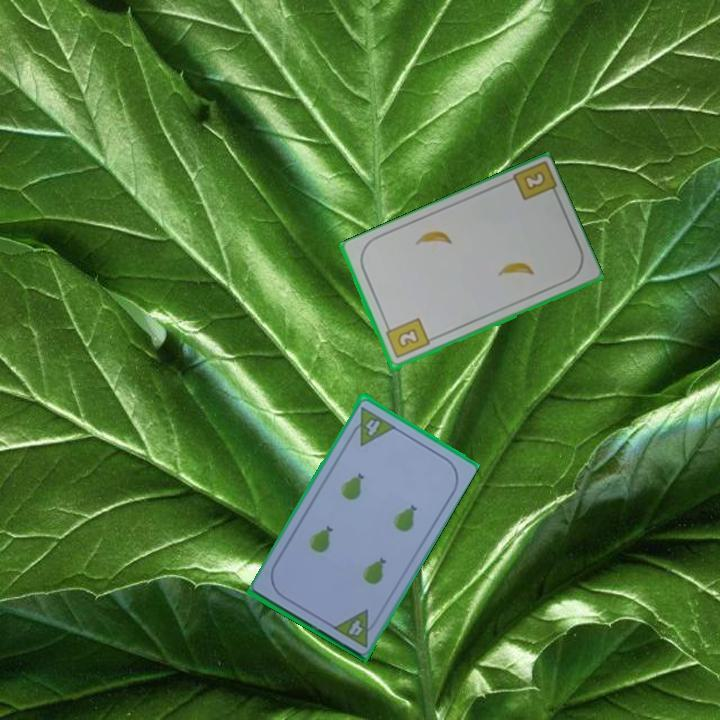2b: (382, 315, 432, 361), (520, 167, 548, 193)
4p: (345, 402, 397, 448), (330, 605, 382, 650)
